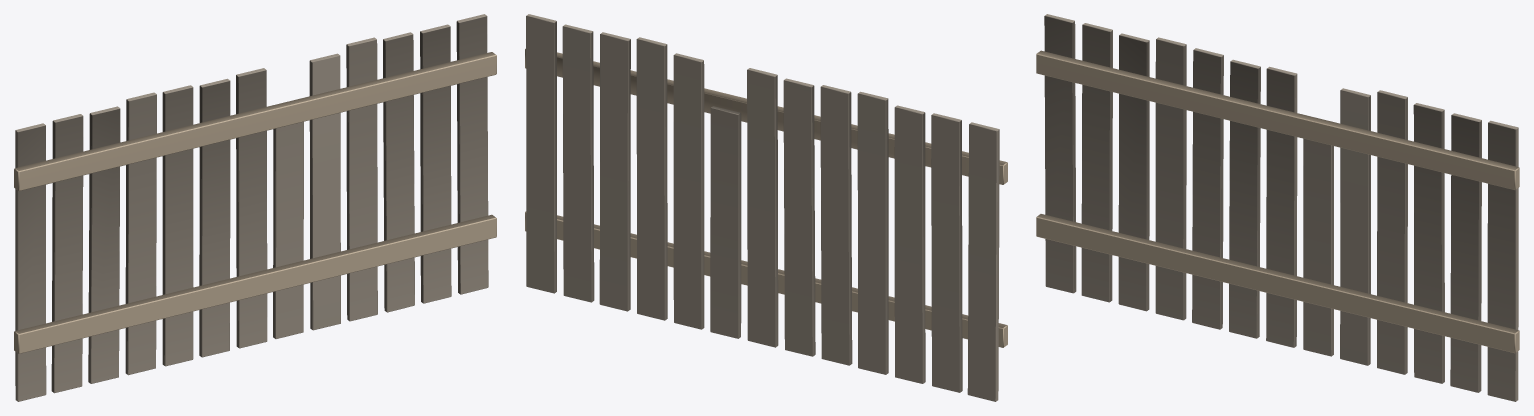
Rendered from fence_panel.glb.
3 views of the same model, side by side, from view 1: azimuth 30°, elevation 25°; view 2: azimuth 150°, elevation 25°; view 3: azimuth 330°, elevation 25° (orthographic).
Parts seen in each view (by area): view 1: static; view 2: static; view 3: static.
Boxes of the visible parts, x1=… form: static: x1=14, y1=14, x2=496, y2=401; static: x1=525, y1=14, x2=1007, y2=401; static: x1=1036, y1=14, x2=1519, y2=401.
Bounding box in the file's own units: 2 × 1.1 × 0.0583.
